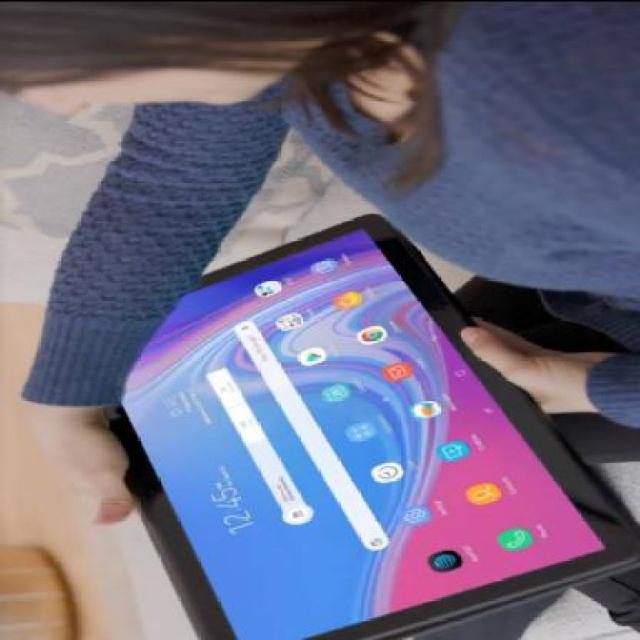tablet: (115, 218, 626, 633)
